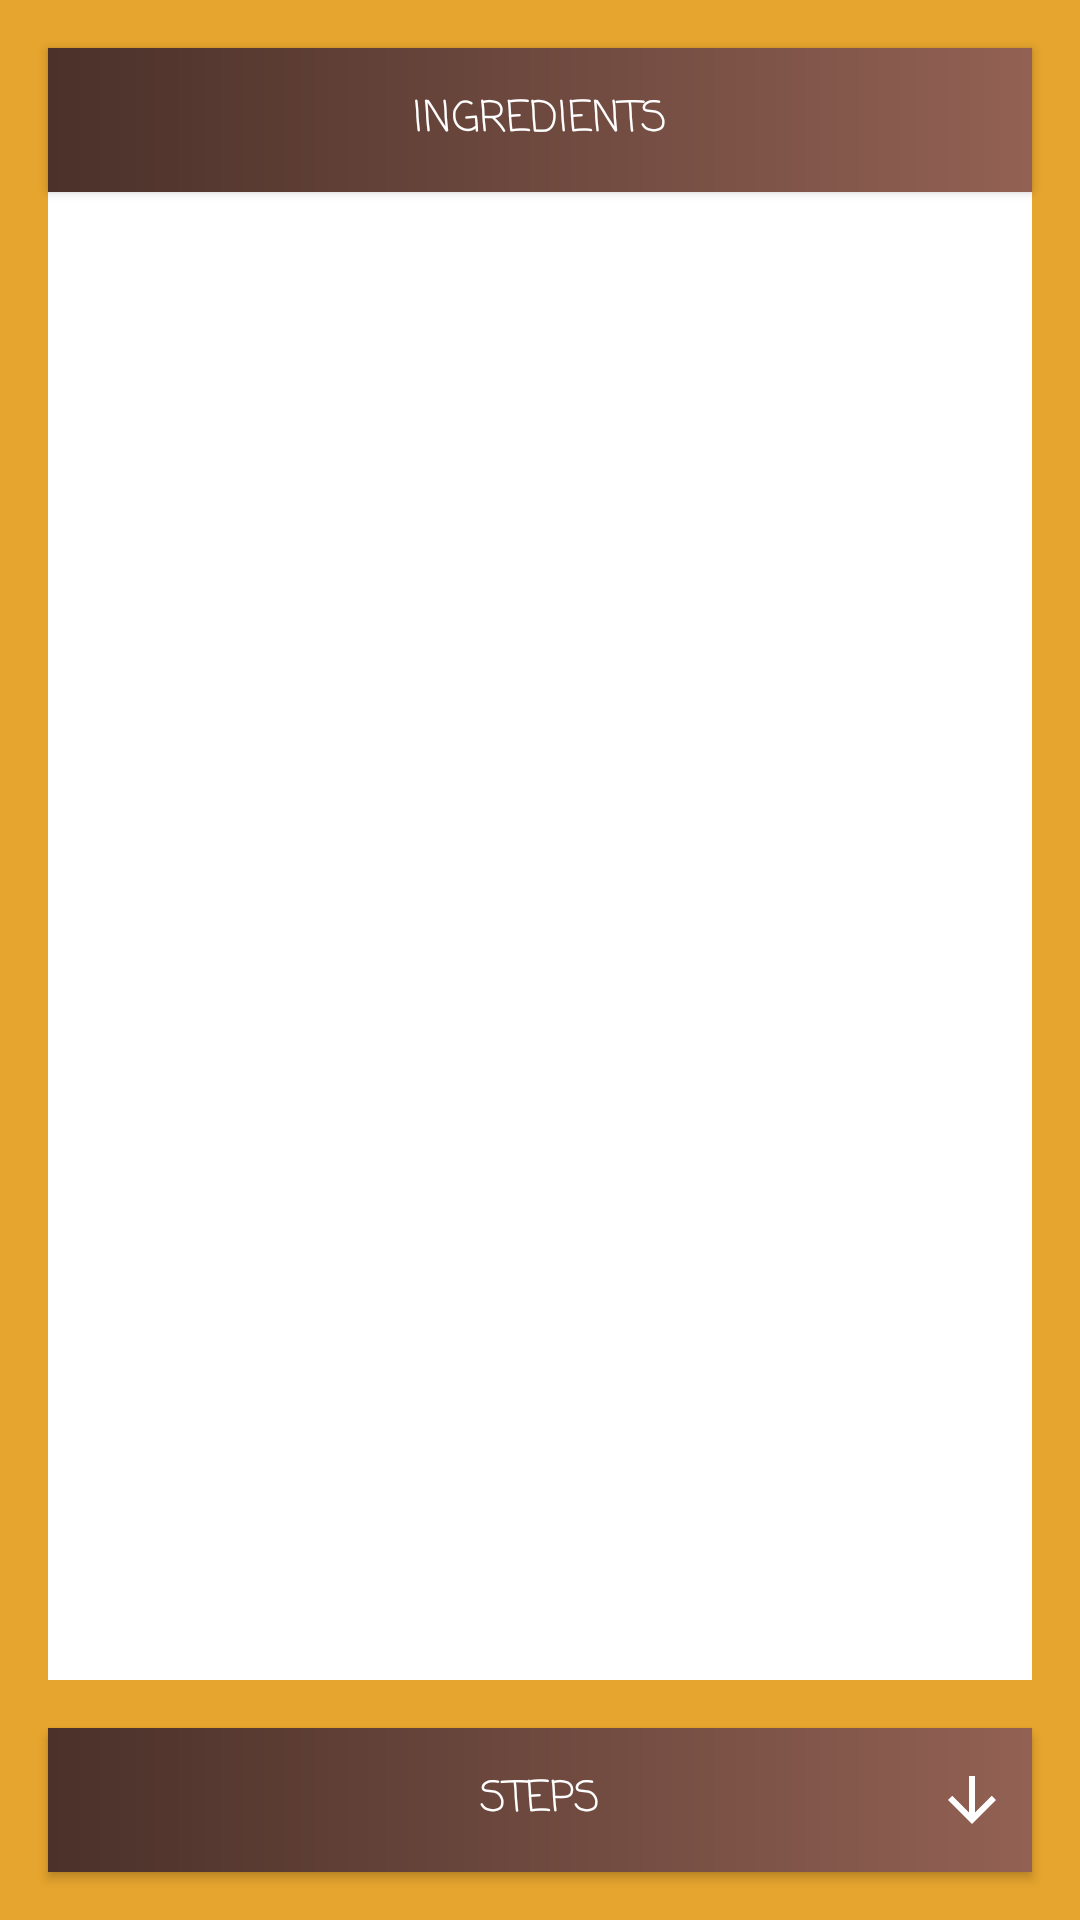

Icons on this 1080×1920 Android screen, each with its box as (x1, y1, x2, y2):
arrow downward: (948, 1776, 996, 1824)
